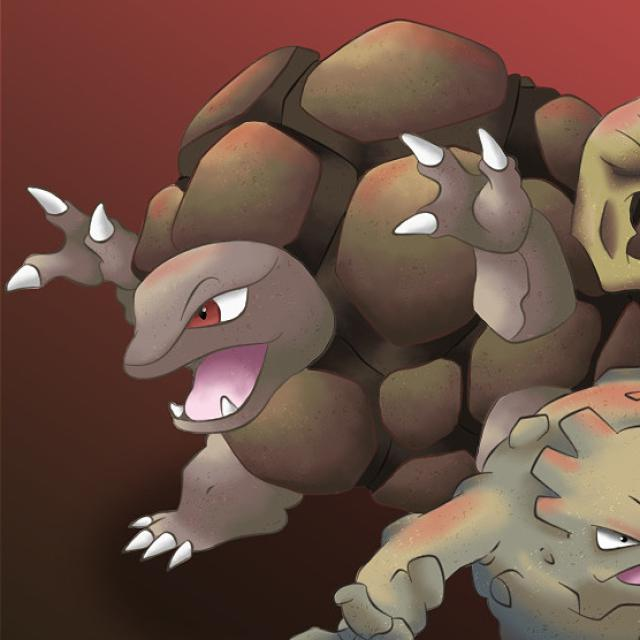Golem: (0, 19, 594, 560)
